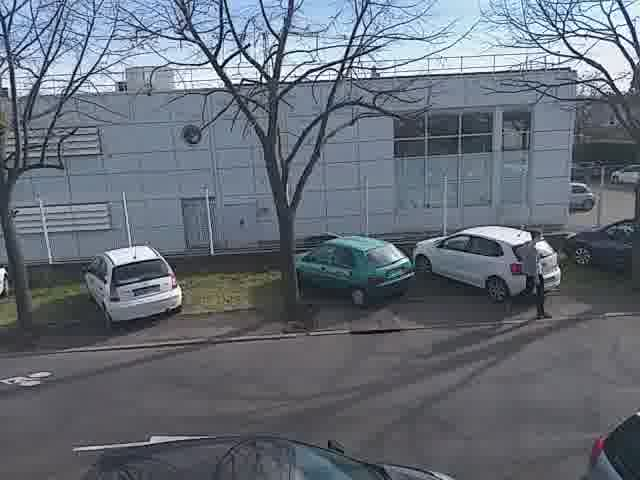persona: (507, 229, 558, 319)
